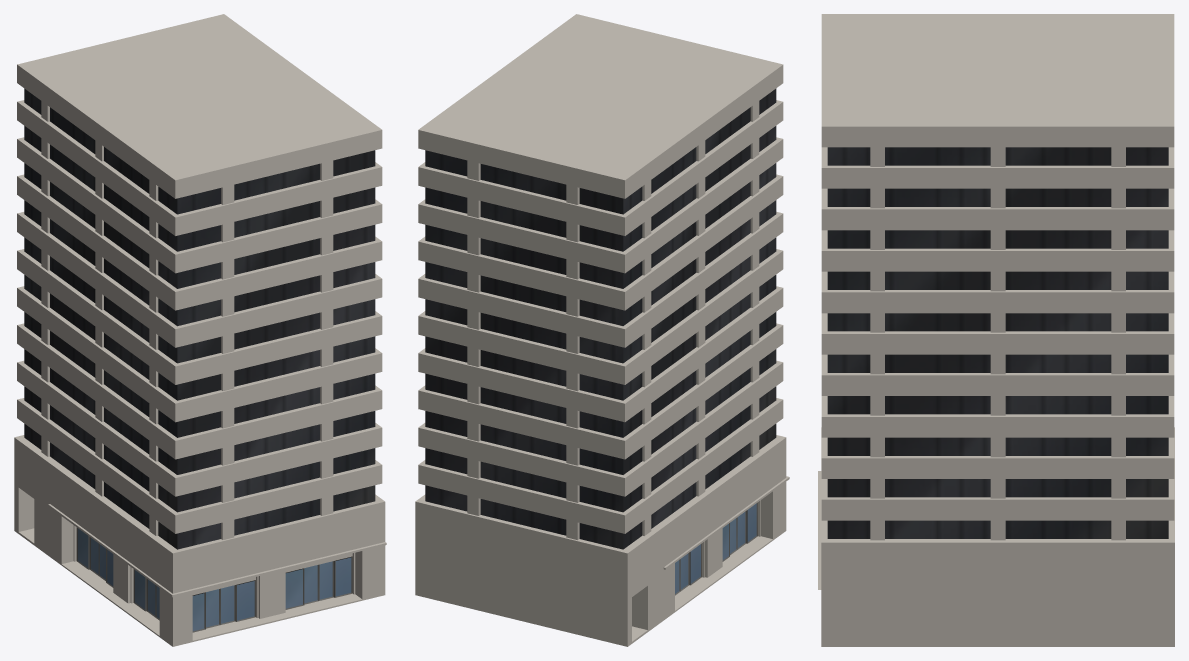
File: Bld_Building_FA.fbx
3 views of the same model, side by side, from view 1: azimuth 30°, elevation 25°; view 2: azimuth 150°, elevation 25°; view 3: azimuth 270°, elevation 25° (orthographic). The views are drawn at different scales.
Parts seen in each view (by area): view 1: Bld_Building_FA; view 2: Bld_Building_FA; view 3: Bld_Building_FA.
Boxes of the visible parts, x1,y1,x2,y2 form: Bld_Building_FA: (14,14,386,646); Bld_Building_FA: (415,14,789,646); Bld_Building_FA: (818,14,1174,646).
Bounding box in the file's own units: 1686 × 3500 × 2181.
